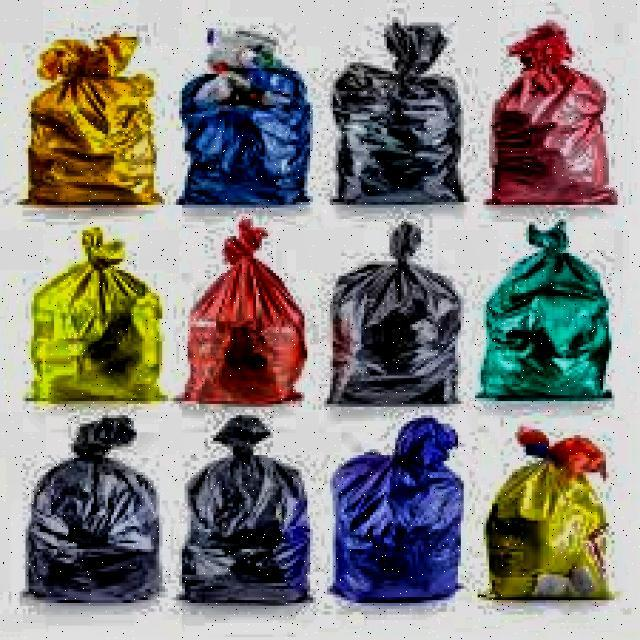Trashbag: (12, 418, 175, 616), (316, 239, 477, 418), (321, 40, 475, 215), (172, 429, 317, 614)
